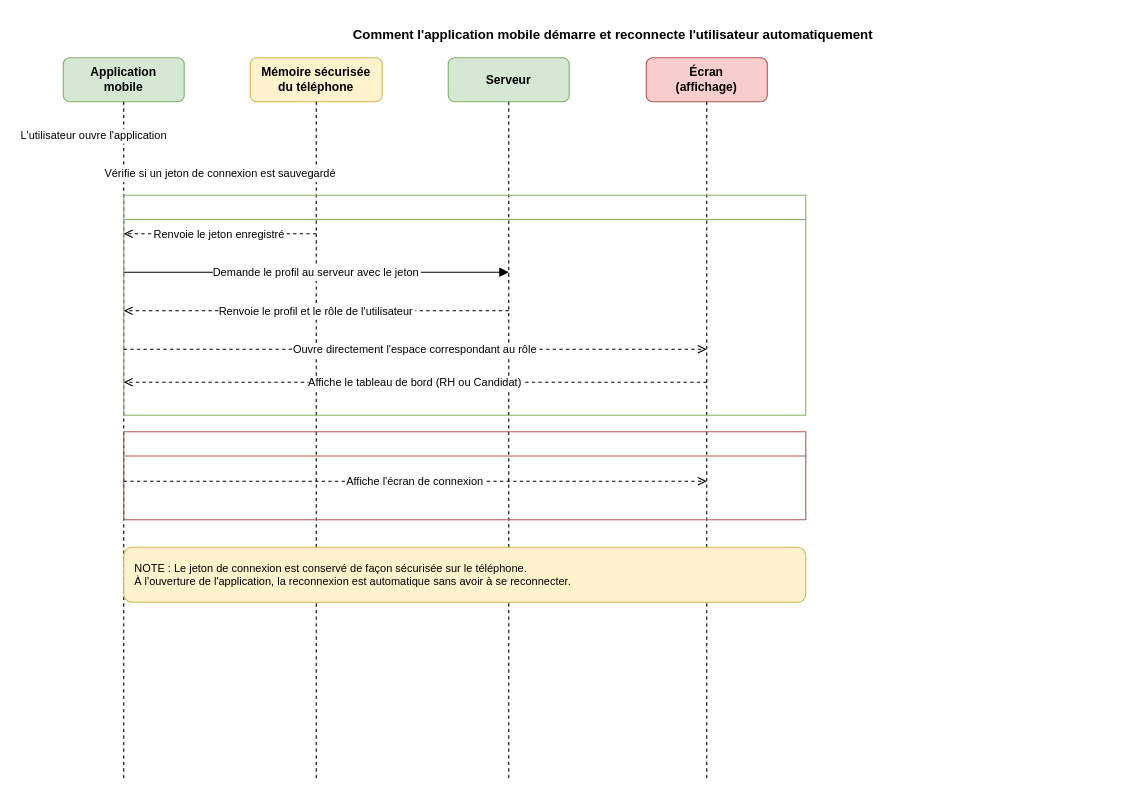
This 1126x799 diagram has some shape labels left out. Each missing label, with the centre of its shape:
"Aucun jeton sauvegardé (première utilisation ou déconnexion)" goes at (464,475).
"Un jeton de connexion existe" goes at (464,304).
